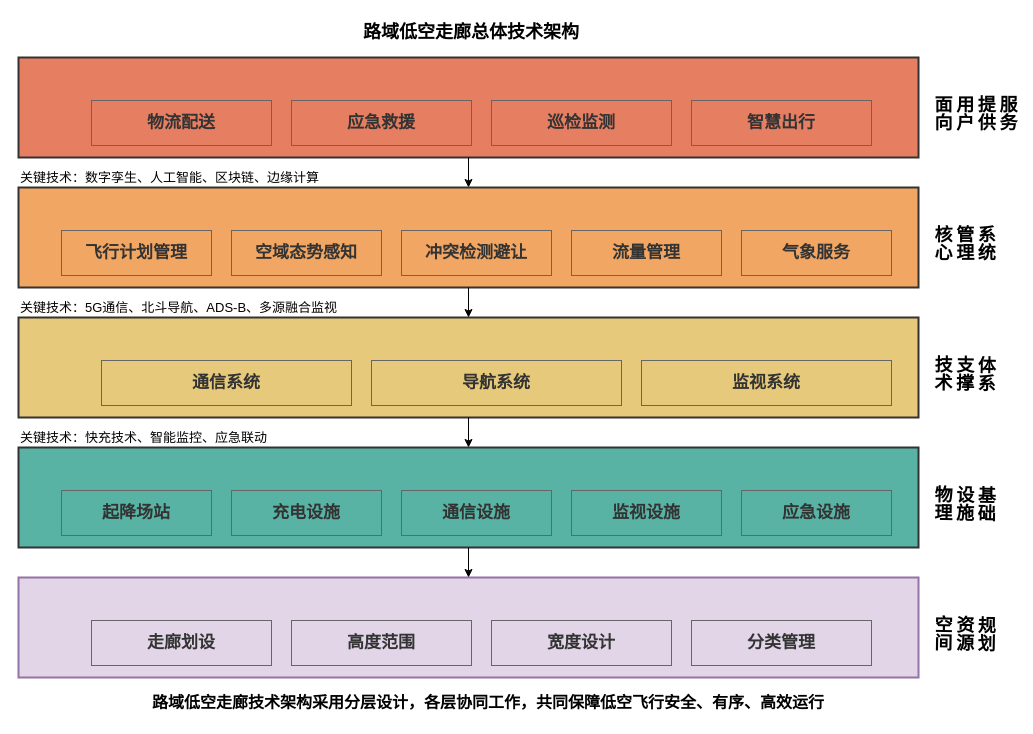
Some shapes in this 1033 by 734 pixel diagram are drawn without their labels. Here are the shapes that lost their labels. From the top down, the box of each, then its label:
(17, 56, 919, 158): 应用服务层
(17, 186, 919, 288): 交通管理层
(17, 316, 919, 418): 通信导航监视层
(17, 446, 919, 548): 基础设施层
(17, 576, 919, 678): 空域规划层
